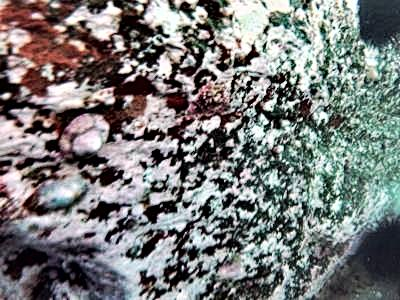urchin: (358, 211, 395, 288), (356, 1, 391, 52)
